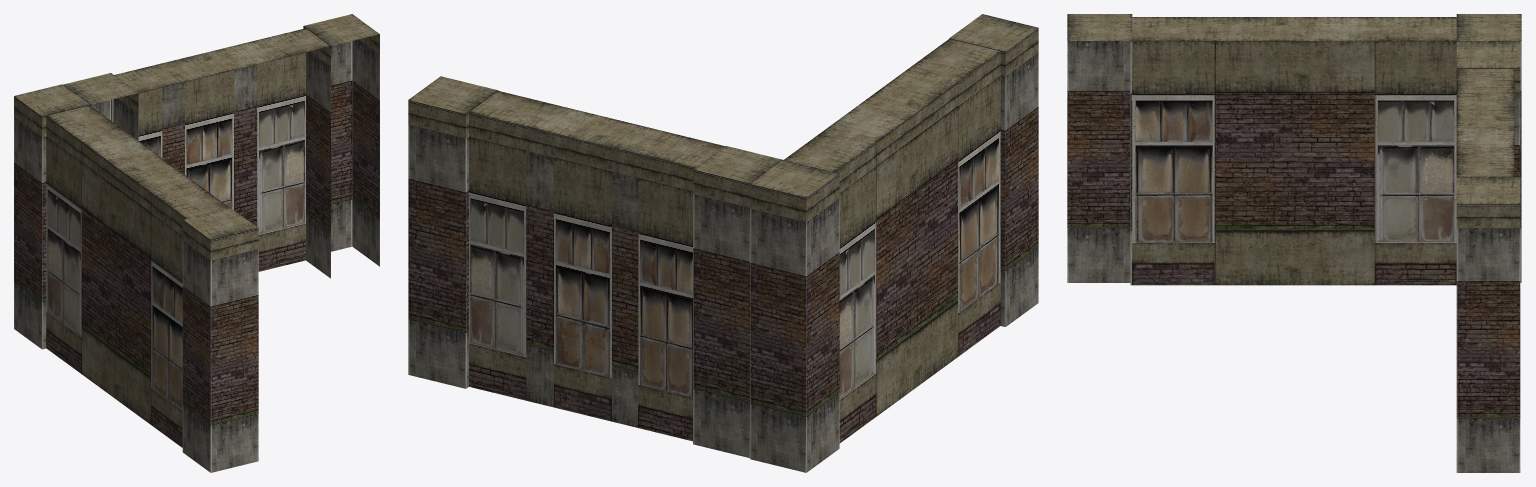
The model's file is Corner_Building_Part_09_Tile.fbx.
3 views of the same model, side by side, from view 1: azimuth 30°, elevation 25°; view 2: azimuth 150°, elevation 25°; view 3: azimuth 270°, elevation 25° (orthographic). The views are drawn at different scales.
Visible parts, largest first — view 1: Corner_Building_Part_09_Tile; view 2: Corner_Building_Part_09_Tile; view 3: Corner_Building_Part_09_Tile.
Boxes of the visible parts, x1,y1,x2,y2 form: Corner_Building_Part_09_Tile: (14, 14, 379, 472); Corner_Building_Part_09_Tile: (408, 14, 1038, 472); Corner_Building_Part_09_Tile: (1067, 14, 1521, 472).
Bounding box in the file's own units: 694 × 457 × 700.
